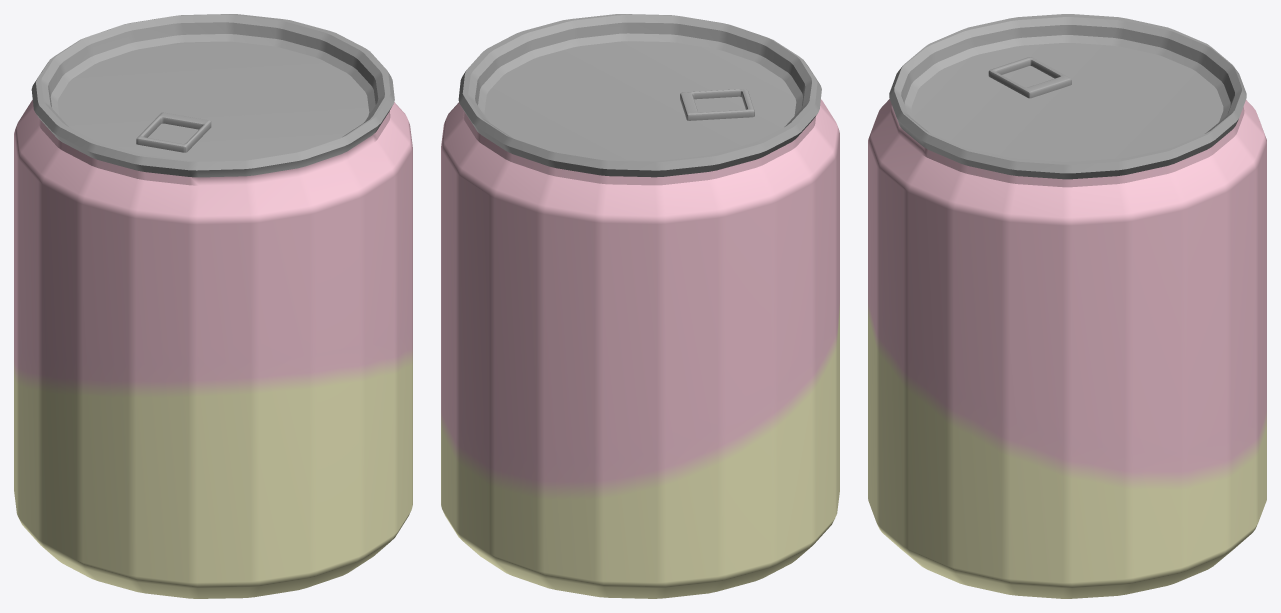
File: Ürün77.fbx
3 views of the same model, side by side, from view 1: azimuth 30°, elevation 25°; view 2: azimuth 150°, elevation 25°; view 3: azimuth 270°, elevation 25° (orthographic).
Visible parts, largest first — view 1: pCylinder50; view 2: pCylinder50; view 3: pCylinder50.
Part boxes in pixels (x1,y1,x2,y2): pCylinder50: (14,14,412,598); pCylinder50: (441,14,839,598); pCylinder50: (868,14,1266,598).
Size of the model in its own units: 11.57 by 14.02 by 11.57.
